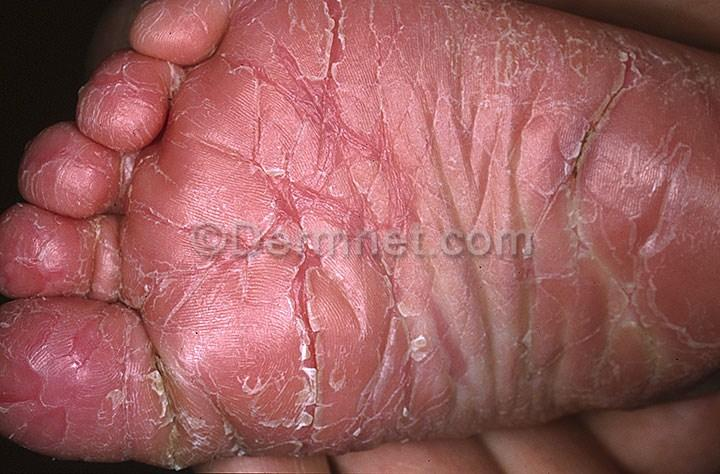Eczema: (463, 140, 612, 301), (291, 46, 463, 173), (621, 125, 719, 341), (451, 26, 617, 146), (165, 51, 311, 183), (311, 178, 449, 315), (144, 187, 292, 312), (190, 317, 328, 437), (363, 325, 495, 439), (24, 317, 118, 411), (635, 43, 720, 130), (502, 301, 570, 404), (19, 232, 124, 286), (47, 150, 117, 203), (104, 80, 160, 132), (141, 7, 209, 47)
